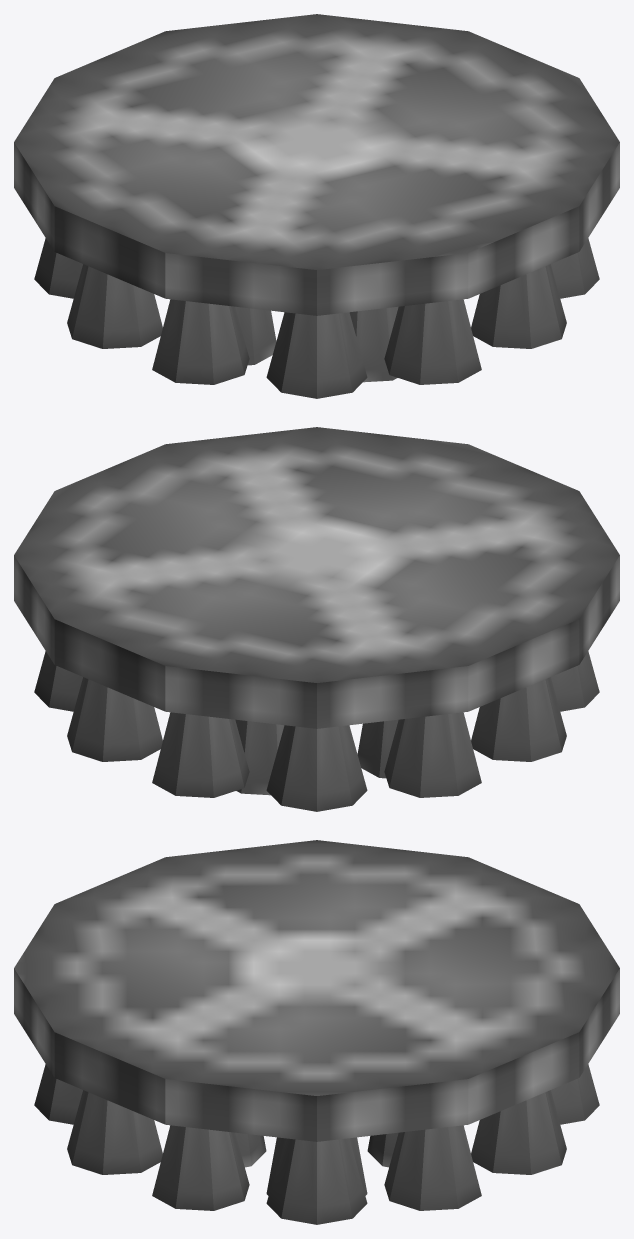
Rendered from mp_t_15_solid_hexdecuple.obj.
3 renders of one model, top to bottom at view 1: azimuth 30°, elevation 25°; view 2: azimuth 150°, elevation 25°; view 3: azimuth 270°, elevation 25°, orthographic.
Parts seen in each view (by area): view 1: Cylinder.002; view 2: Cylinder.002; view 3: Cylinder.002.
Boxes of the visible parts, <box> form: Cylinder.002: <box>14,14,619,398</box>; Cylinder.002: <box>14,427,619,811</box>; Cylinder.002: <box>14,840,619,1224</box>.
Bounding box in the file's own units: 1.5 × 0.5 × 1.5.
